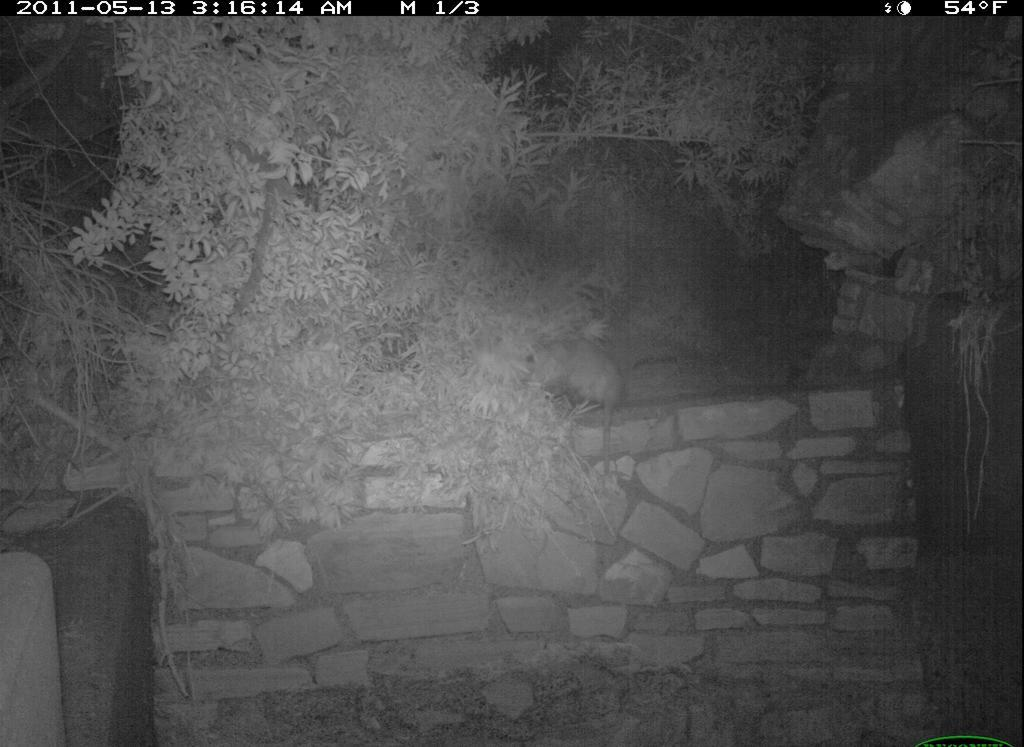opossum: (520, 326, 635, 446)
